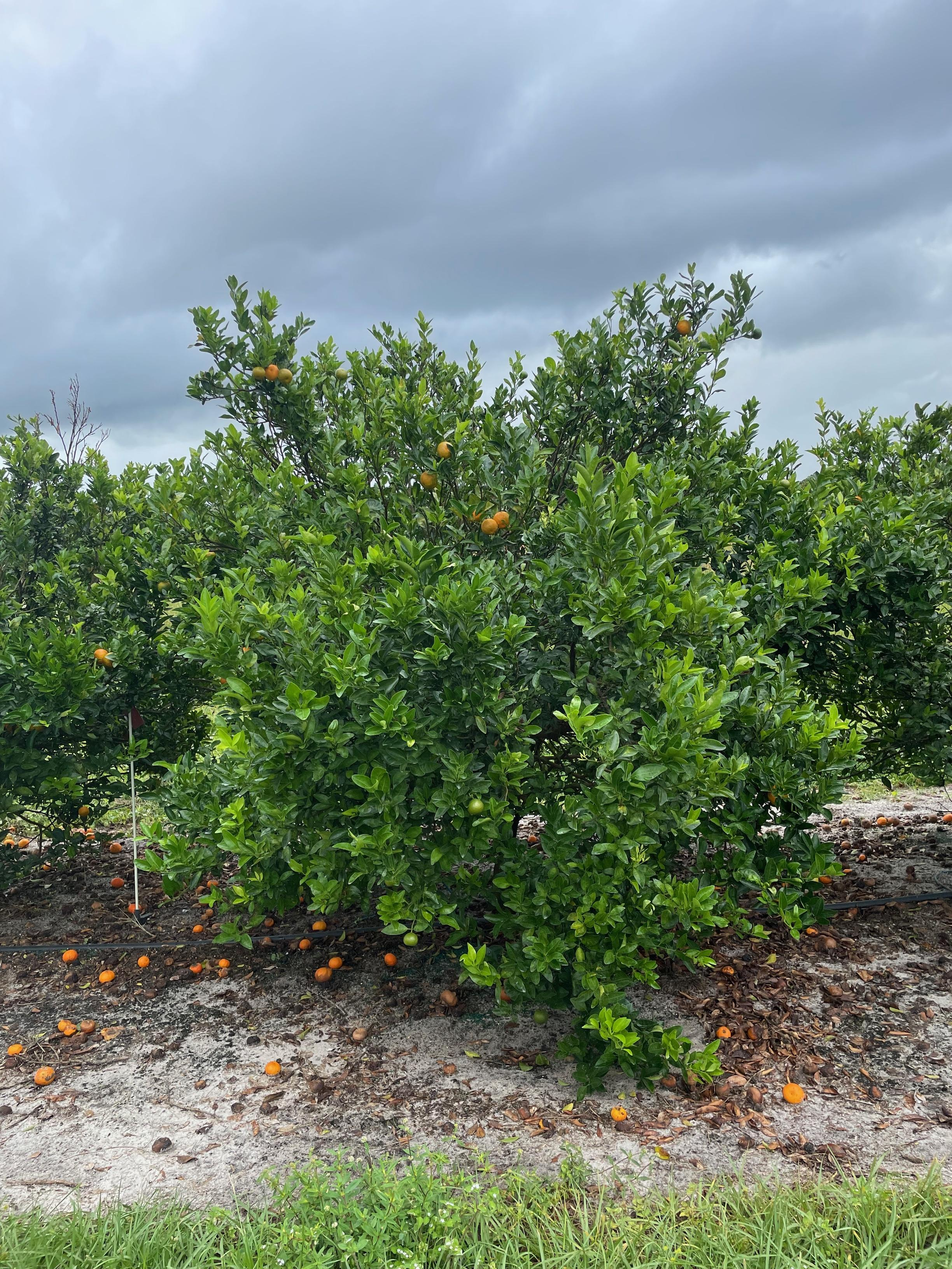fruit_on_ground: (766, 782, 792, 807), (91, 645, 116, 669), (467, 503, 488, 524), (419, 469, 439, 490), (492, 510, 512, 530), (153, 575, 173, 594), (480, 517, 499, 537), (262, 363, 281, 382), (436, 440, 455, 459), (467, 797, 485, 817), (532, 1008, 550, 1025), (402, 931, 420, 947), (277, 367, 293, 385), (676, 318, 692, 336), (251, 365, 267, 381), (29, 719, 47, 733), (334, 367, 349, 382), (3, 721, 17, 735), (218, 673, 232, 687), (77, 805, 90, 818), (752, 328, 763, 340)
fruit_on_tree: (780, 1080, 806, 1106), (33, 1065, 56, 1086), (743, 1021, 767, 1040), (609, 1103, 630, 1124), (744, 1085, 764, 1105), (56, 1016, 77, 1035), (439, 988, 459, 1007), (152, 1135, 172, 1153), (820, 933, 839, 951), (714, 1023, 733, 1041), (350, 1026, 368, 1044), (314, 965, 333, 982), (660, 1072, 678, 1089), (495, 986, 513, 1003), (79, 1016, 97, 1033), (264, 1059, 282, 1076), (310, 1077, 329, 1092), (5, 1041, 24, 1056), (97, 968, 115, 983), (61, 947, 79, 962), (802, 923, 820, 937), (382, 951, 398, 966), (328, 954, 344, 969), (311, 918, 328, 931), (108, 841, 123, 855), (63, 970, 79, 983), (817, 873, 833, 886), (126, 902, 143, 914), (136, 954, 150, 968), (205, 877, 220, 890), (110, 875, 125, 888), (298, 938, 313, 951), (525, 832, 538, 845), (939, 810, 952, 823), (189, 961, 203, 973), (217, 956, 231, 968), (2, 1101, 13, 1116), (193, 884, 208, 895), (925, 811, 940, 822), (902, 799, 915, 811), (859, 818, 872, 830), (203, 906, 216, 918), (840, 816, 852, 828), (2, 838, 15, 849), (819, 822, 833, 832), (162, 954, 174, 965), (889, 815, 901, 826), (263, 916, 275, 927), (875, 814, 887, 825), (18, 837, 30, 848), (192, 922, 204, 933), (864, 876, 877, 886), (84, 832, 97, 842), (856, 851, 867, 862), (144, 988, 156, 998), (842, 866, 854, 876), (840, 839, 852, 849), (42, 862, 52, 872), (83, 826, 94, 835)
